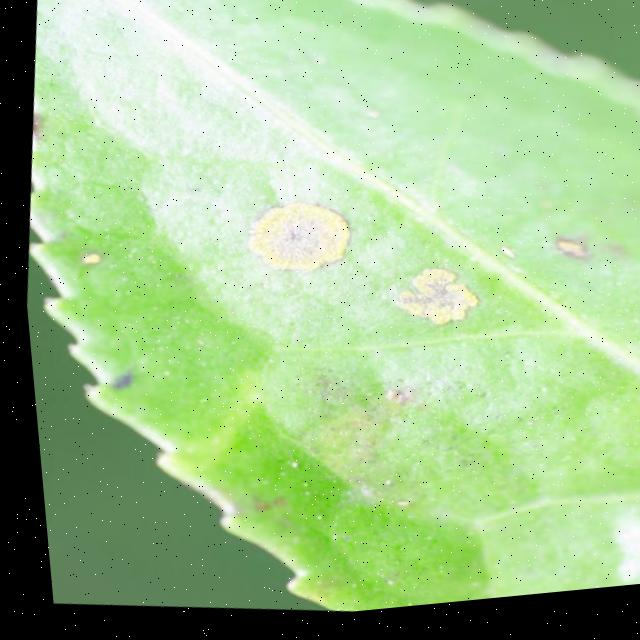Tea red rust: (206, 124, 604, 395)
